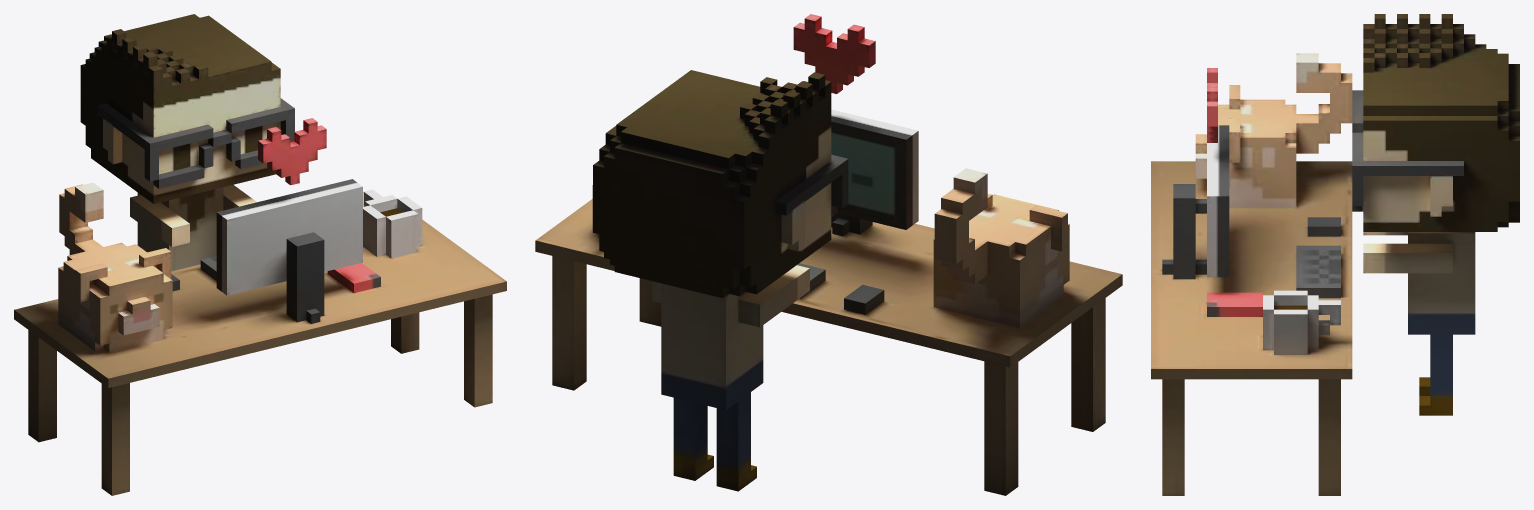
The model's file is dude.glb.
3 views of the same model, side by side, from view 1: azimuth 30°, elevation 25°; view 2: azimuth 150°, elevation 25°; view 3: azimuth 270°, elevation 25° (orthographic). The views are drawn at different scales.
Visible parts, largest first — view 1: dude; view 2: dude; view 3: dude.
Part boxes in pixels (box(x1,y1,x2,y2)): dude: box(14, 14, 506, 495); dude: box(535, 14, 1122, 495); dude: box(1151, 14, 1519, 495).
Size of what is drawn, in the model's own units: 4.4 by 3.5 by 3.3.
Materials: 1 (1 with a texture image).
